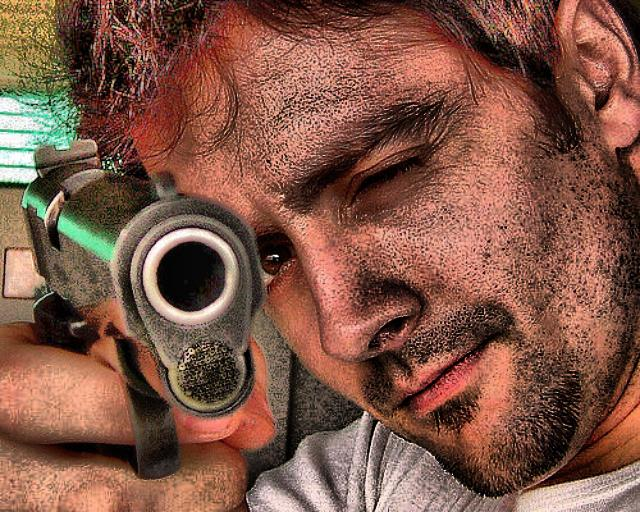pistol: (20, 140, 252, 478)
